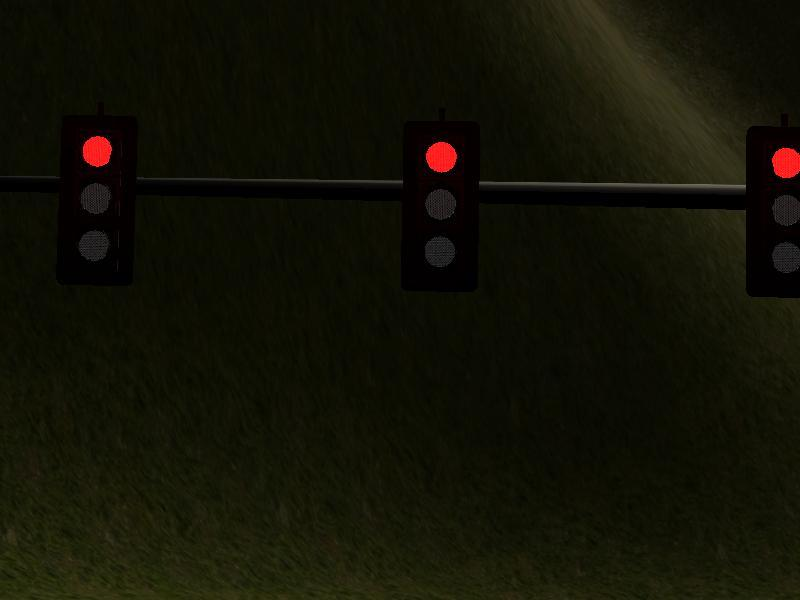Red: (396, 114, 478, 288), (65, 122, 130, 297), (747, 130, 800, 295)
